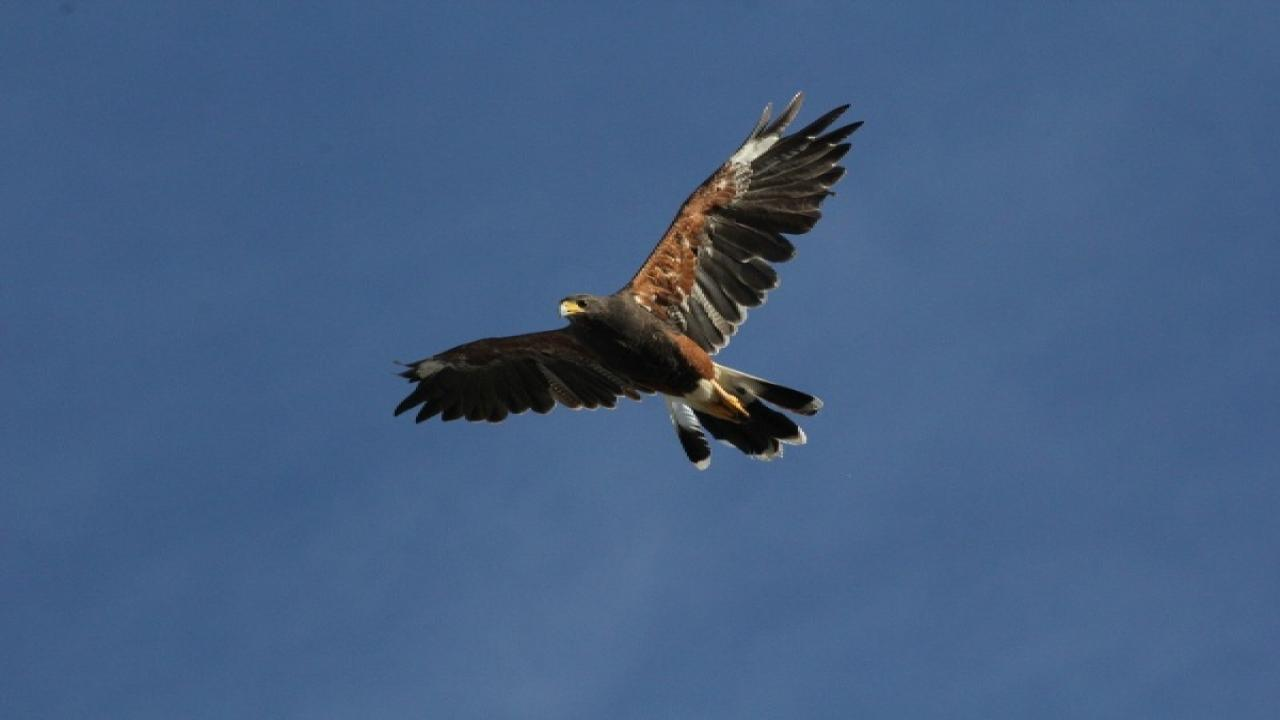Bird: (370, 81, 888, 479)
